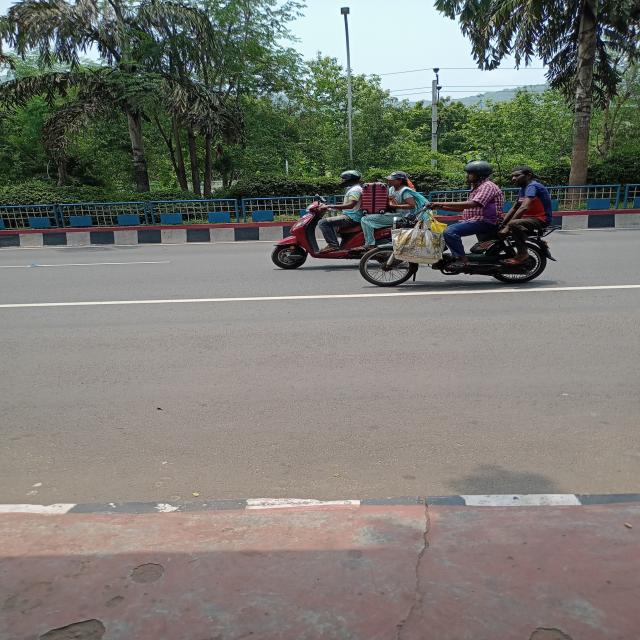bike: (361, 215, 555, 282), (255, 194, 374, 276)
